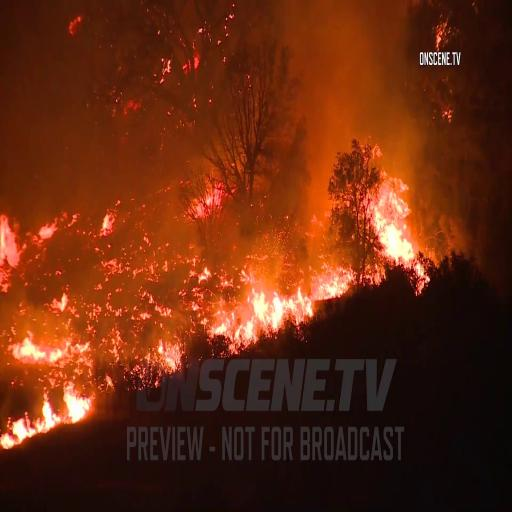fire: (0, 392, 91, 470), (369, 170, 426, 288)
